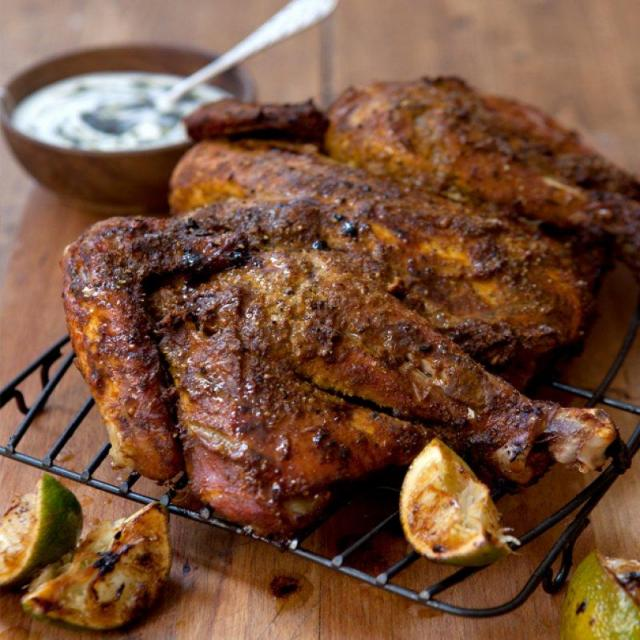chicken: (62, 73, 640, 540)
